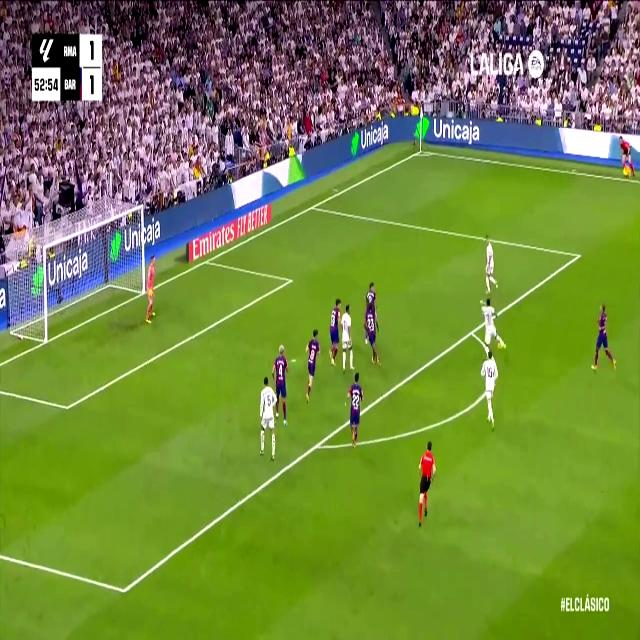bigarea_bottom_inner: (116, 572, 132, 608)
bigarea_top_inner: (574, 244, 584, 266)
bigarea_top_outter: (308, 198, 318, 215)
bottom_arc_area_intersection: (310, 430, 324, 459)
corner: (414, 144, 426, 158)
smallarea_bottom_inner: (62, 394, 72, 420)
smallarea_top_inner: (285, 268, 295, 290)
top_arc_area_intersection: (467, 321, 477, 342)
